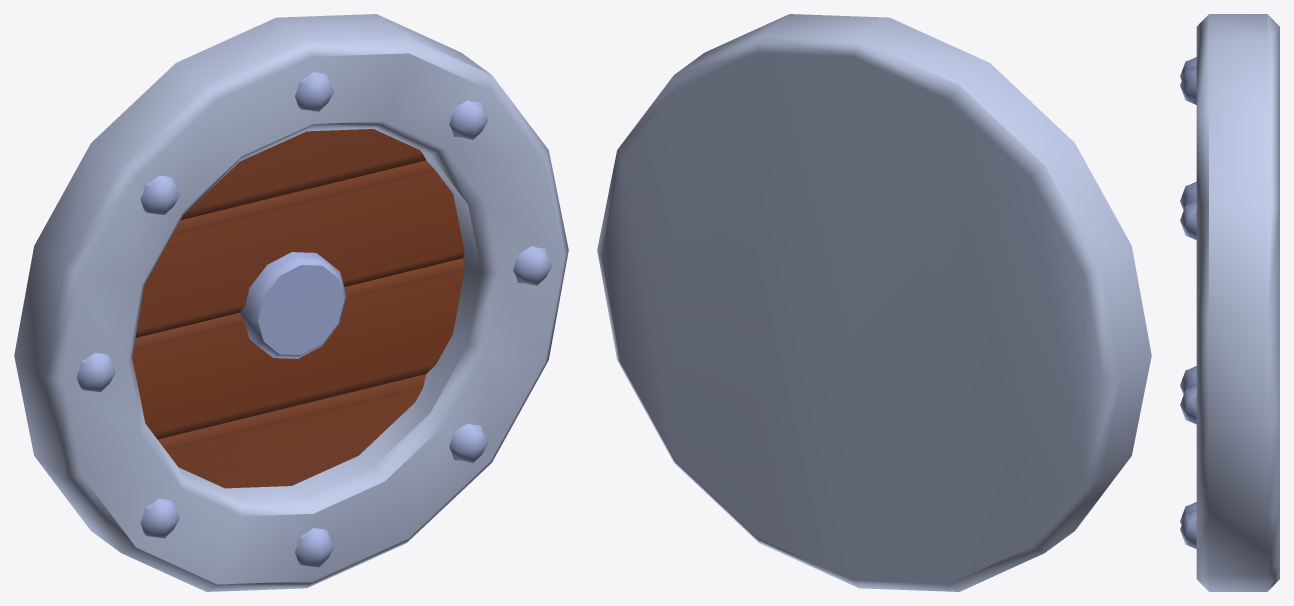
3 renders of one model, left to right at view 1: azimuth 30°, elevation 25°; view 2: azimuth 150°, elevation 25°; view 3: azimuth 270°, elevation 25°, orthographic. The views are drawn at different scales.
Parts seen in each view (by area): view 1: model_0.033; view 2: model_0.033; view 3: model_0.033.
Part boxes in pixels (left/top/right/bottom): model_0.033: left=14, top=14, right=568, bottom=591; model_0.033: left=597, top=14, right=1151, bottom=591; model_0.033: left=1180, top=14, right=1279, bottom=591.
Size of the model in its own units: 3.67 by 3.67 by 0.6339.
